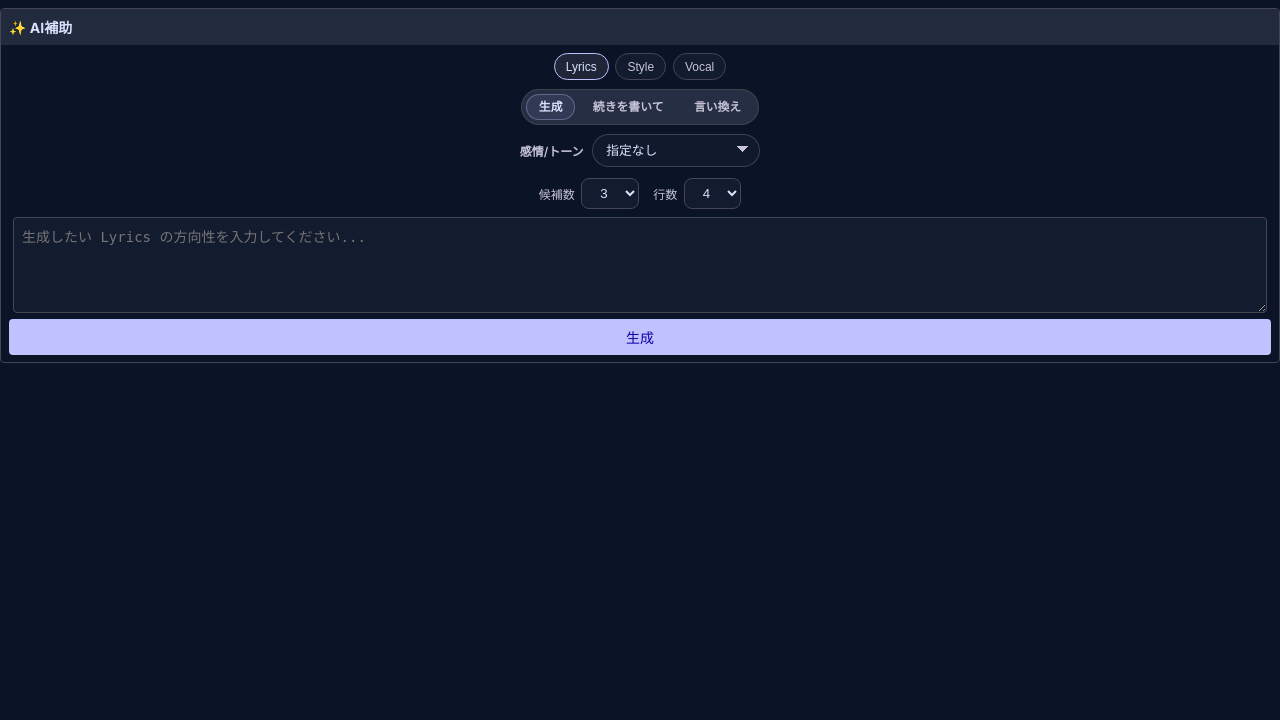
LLMAssistPanel › generation flow › should show candidates on successful generation
This screenshot has width=1280, height=720.
Click the button "生成" at (640, 337), box [9,319,1271,355]
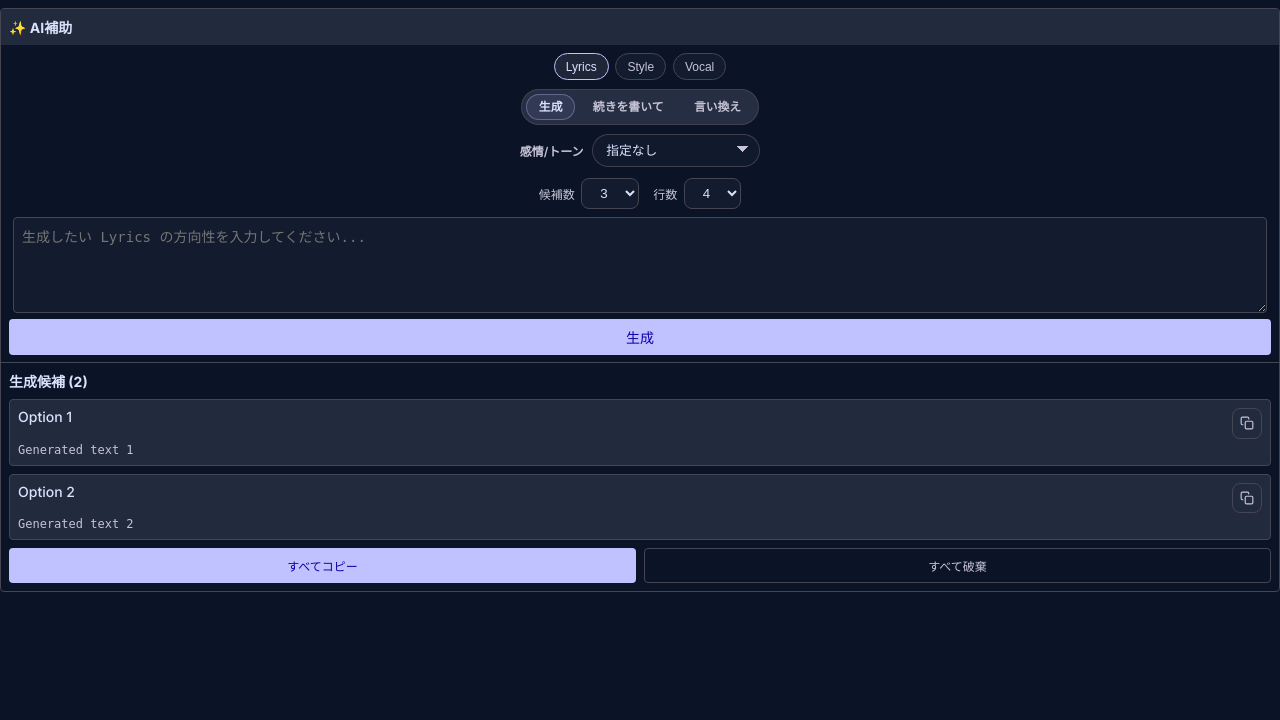
Now the heading "生成候補 (2)" is shown, box [9,373,88,390]
